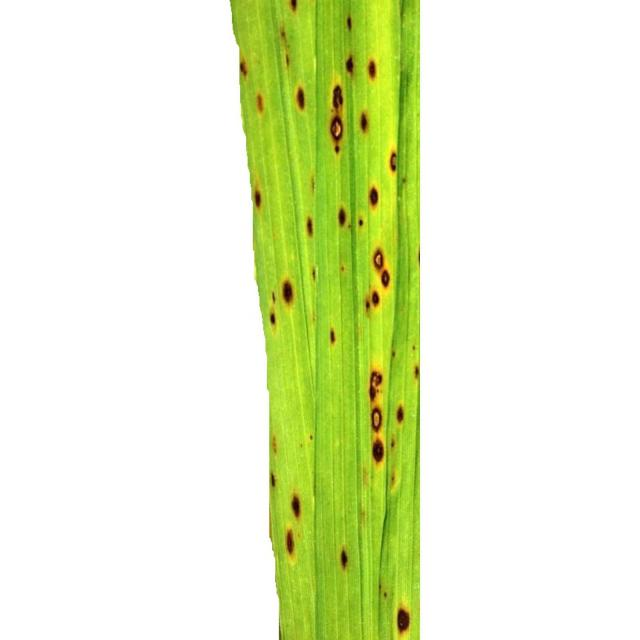Brown spot: (193, 0, 499, 640)
